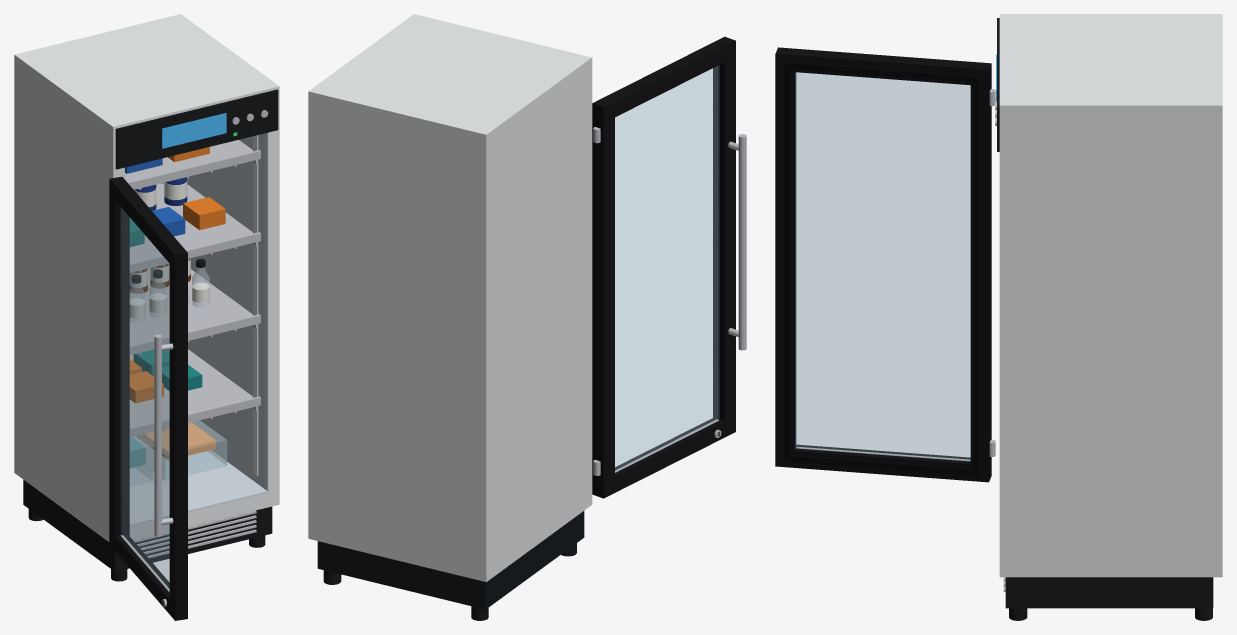
The model's file is lab_fridge_door_open.fbx.
3 views of the same model, side by side, from view 1: azimuth 30°, elevation 25°; view 2: azimuth 150°, elevation 25°; view 3: azimuth 270°, elevation 25° (orthographic). The views are drawn at different scales.
Visible parts, largest first — view 1: Fridge_Body_White, Fridge_Liner, Door_Frame_Frame_Black, Door_Glass, Fridge_Plastic_Dark, Shelf_02, Shelf_01, Shelf_03, Fridge_Contents_Crate_Clear, Fridge_Contents_Box_Orange, Shelf_04, Fridge_Contents_Label_White (+10 smaller); view 2: Fridge_Body_White, Door_Glass, Door_Frame_Frame_Black, Fridge_Plastic_Dark, Door_Handle_Mesh; view 3: Fridge_Body_White, Door_Glass, Door_Frame_Frame_Black, Door_Gasket, Fridge_Plastic_Dark.
Boxes of the visible parts, <box> form: Fridge_Body_White: <box>14,14,279,541</box>; Fridge_Liner: <box>124,132,268,525</box>; Door_Frame_Frame_Black: <box>109,176,187,620</box>; Door_Glass: <box>121,208,169,589</box>; Fridge_Plastic_Dark: <box>23,89,278,571</box>; Shelf_02: <box>129,268,260,354</box>; Shelf_01: <box>129,349,260,437</box>; Shelf_03: <box>129,183,260,272</box>; Fridge_Contents_Crate_Clear: <box>130,420,227,486</box>; Fridge_Contents_Box_Orange: <box>129,147,225,459</box>; Shelf_04: <box>125,140,260,189</box>; Fridge_Contents_Label_White: <box>129,180,209,318</box>; Fridge_Body_White: <box>308,14,592,581</box>; Door_Glass: <box>615,65,719,471</box>; Door_Frame_Frame_Black: <box>592,36,735,498</box>; Fridge_Plastic_Dark: <box>317,511,584,609</box>; Door_Handle_Mesh: <box>728,134,746,350</box>; Fridge_Body_White: <box>999,14,1222,577</box>; Door_Glass: <box>795,72,970,459</box>; Door_Frame_Frame_Black: <box>775,47,991,482</box>; Door_Gasket: <box>784,61,979,475</box>; Fridge_Plastic_Dark: <box>997,18,1213,608</box>.
Size of the model in its own units: 91.5 by 185 by 144.
